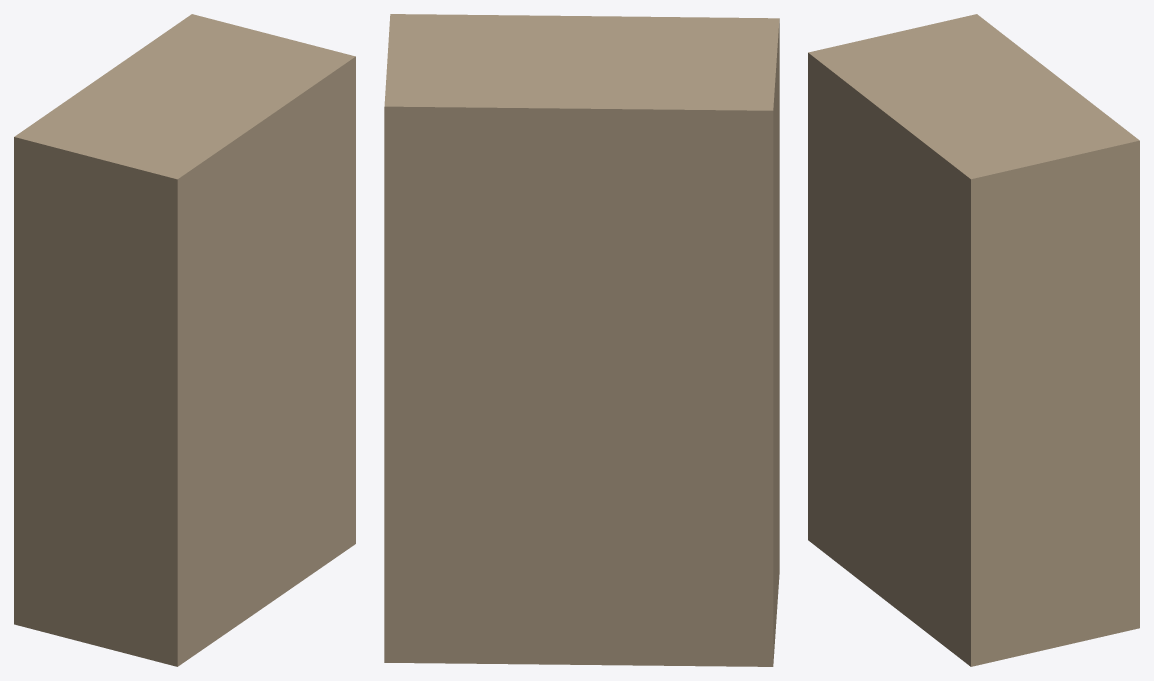
The model's file is bld_109034785.dae.
The picture shows the model from 3 angles, left to right: view 1: azimuth 30°, elevation 25°; view 2: azimuth 150°, elevation 25°; view 3: azimuth 270°, elevation 25°; orthographic projection. The views are drawn at different scales.
Visible parts, largest first — view 1: bld_109034785; view 2: bld_109034785; view 3: bld_109034785.
Boxes of the visible parts, box(x1,y1,x2,y2) form: bld_109034785: box(14, 14, 355, 666); bld_109034785: box(384, 14, 779, 666); bld_109034785: box(808, 14, 1139, 666).
Bounding box in the file's own units: 5.82 × 4.93 × 8.
